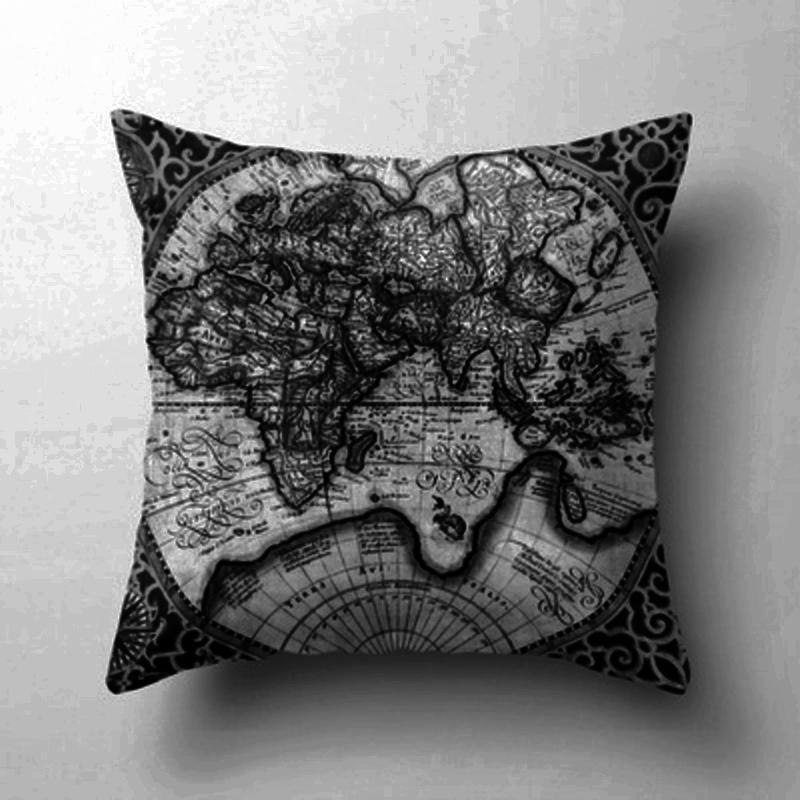pillow: (114, 112, 696, 690)
